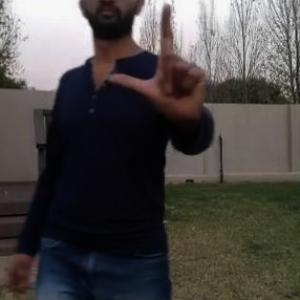land_hand: (110, 1, 212, 125)
